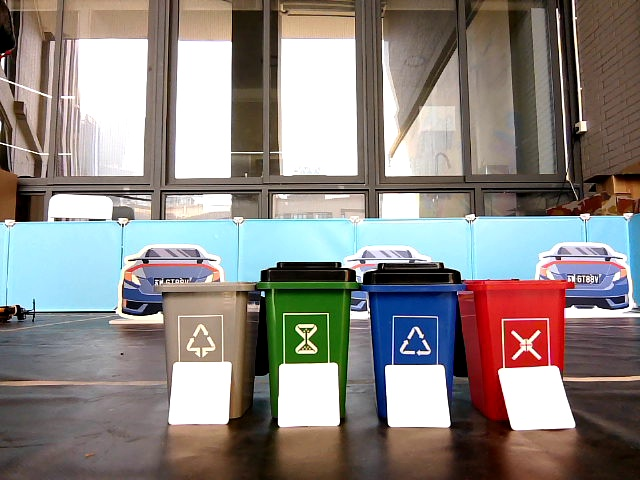blue_close: (367, 263, 449, 362)
green_close: (266, 261, 345, 359)
grey_open: (163, 284, 248, 362)
red_open: (473, 280, 558, 363)
